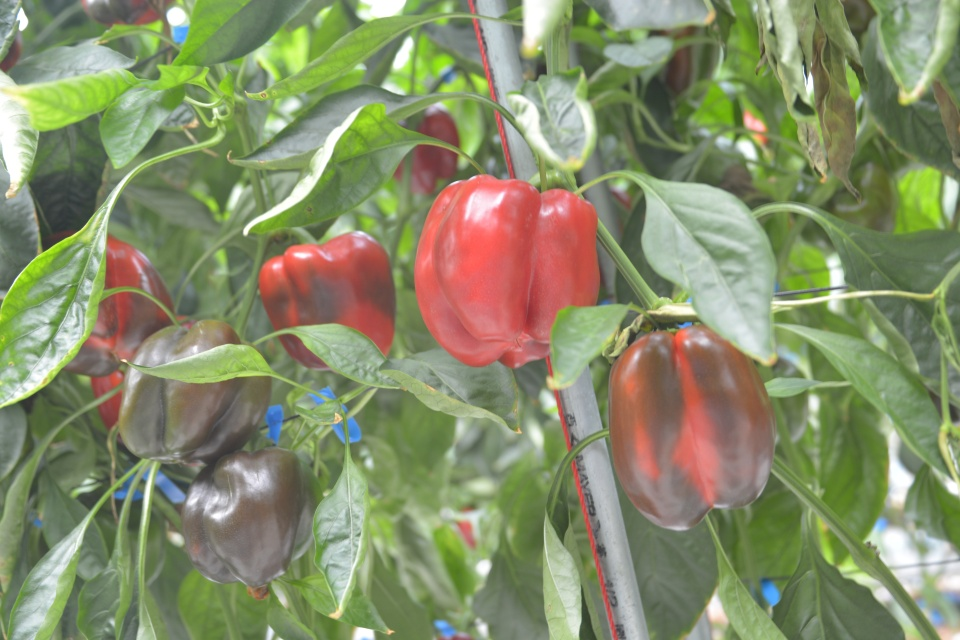fruit: (411, 172, 602, 372), (605, 320, 779, 532), (115, 314, 275, 467), (179, 446, 326, 592), (256, 229, 400, 372), (41, 226, 175, 379), (90, 314, 197, 447), (390, 102, 462, 196), (78, 0, 179, 28)
